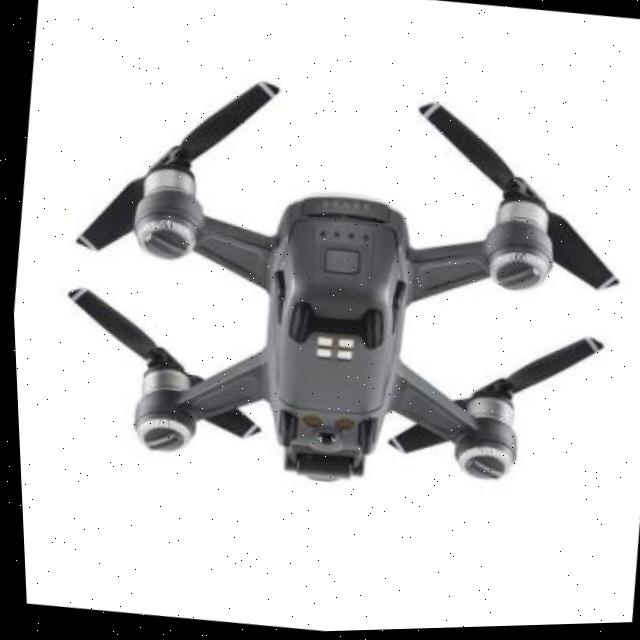drones: (30, 24, 640, 554)
